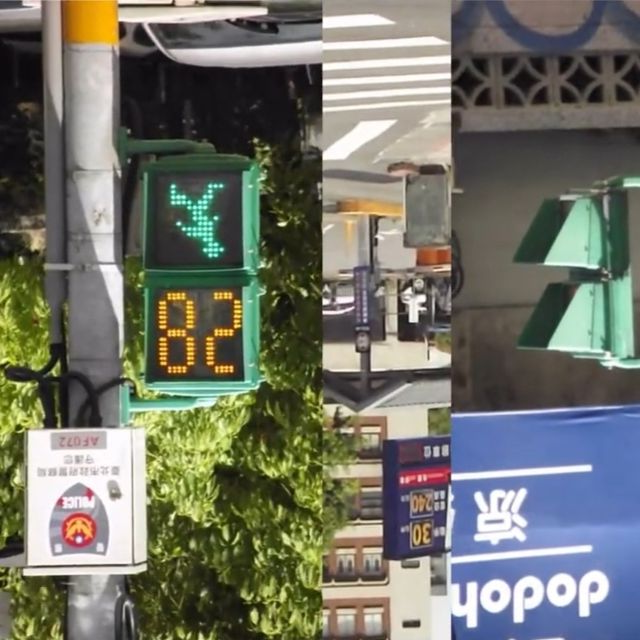green_light: (144, 160, 261, 390)
